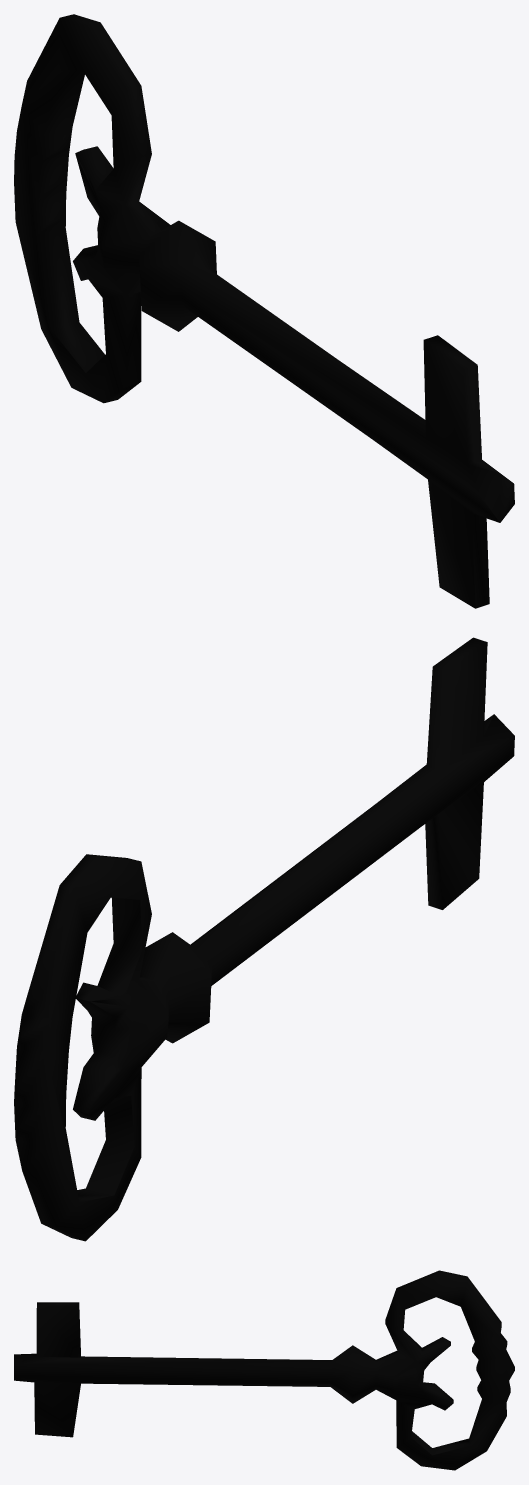
File: SM_Key.fbx
3 renders of one model, top to bottom at view 1: azimuth 30°, elevation 25°; view 2: azimuth 150°, elevation 25°; view 3: azimuth 270°, elevation 25°, orthographic. The views are drawn at different scales.
Parts seen in each view (by area): view 1: SM_Key; view 2: SM_Key; view 3: SM_Key.
Boxes of the visible parts, box(x1,y1,x2,y2) form: SM_Key: box(14, 14, 514, 608); SM_Key: box(14, 637, 514, 1241); SM_Key: box(14, 1270, 514, 1470).
Bounding box in the file's own units: 1.5 × 6.89 × 15.93.
